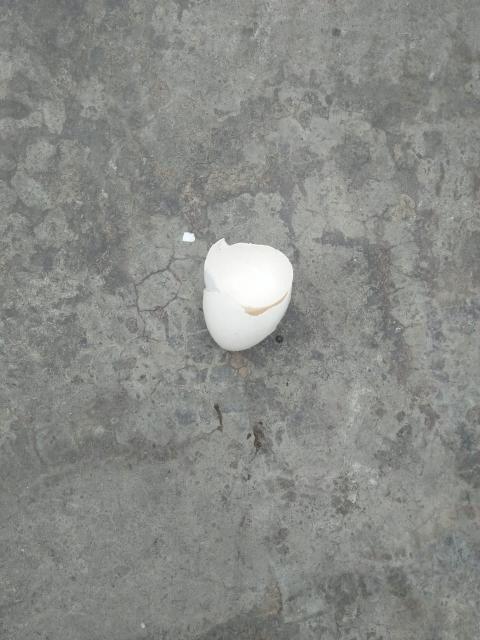Roto: (201, 236, 294, 352)
